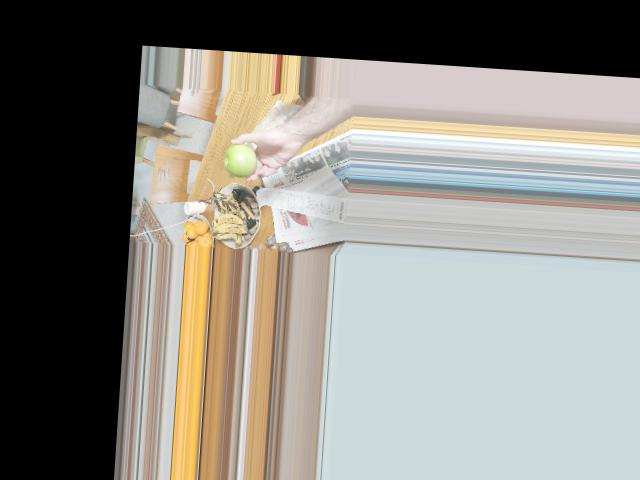apple: (222, 137, 262, 176)
